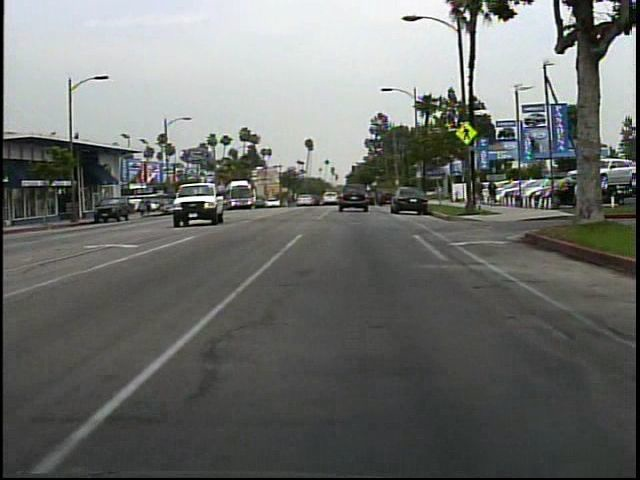person: (569, 173, 593, 226)
